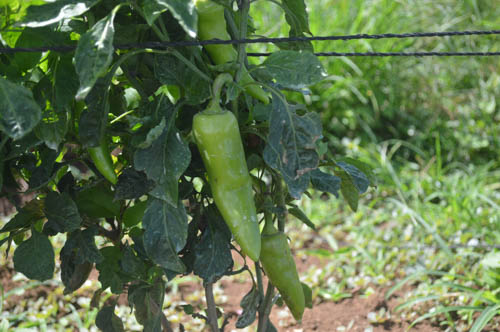ChiliPepper: (196, 111, 264, 265), (196, 4, 274, 107), (260, 233, 309, 318), (87, 139, 118, 183)
